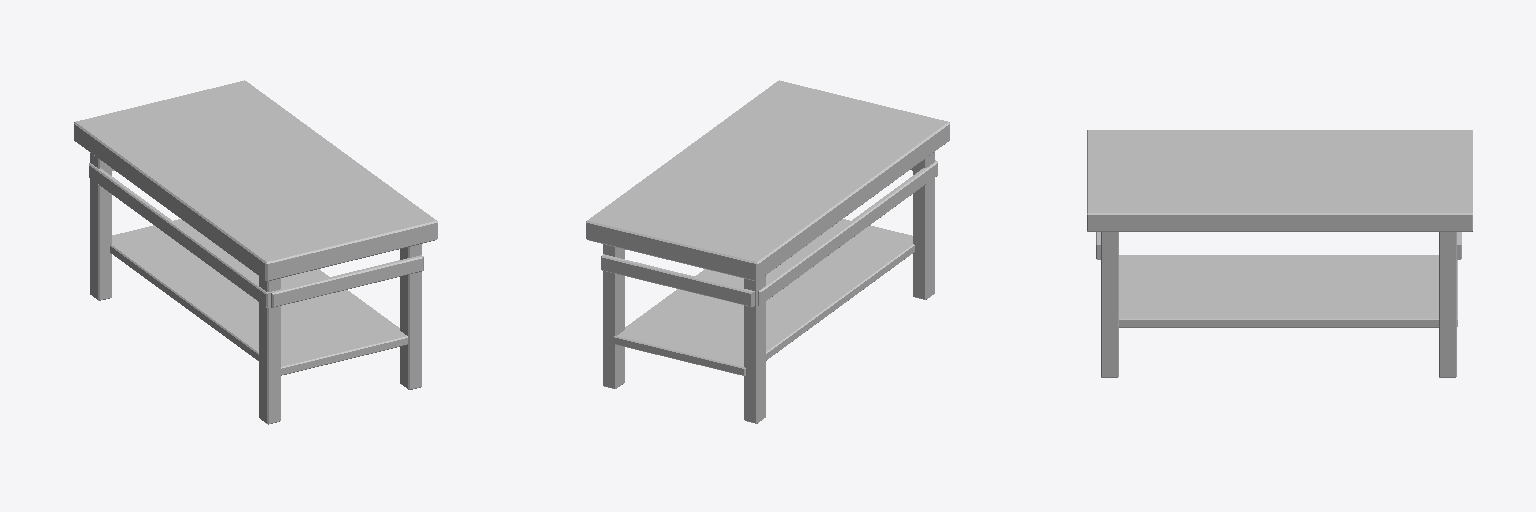
The model's file is ConstrutionTable.obj.
3 views of the same model, side by side, from view 1: azimuth 30°, elevation 25°; view 2: azimuth 150°, elevation 25°; view 3: azimuth 270°, elevation 25° (orthographic).
Size of the model in its own units: 92.68 by 86.86 by 180.